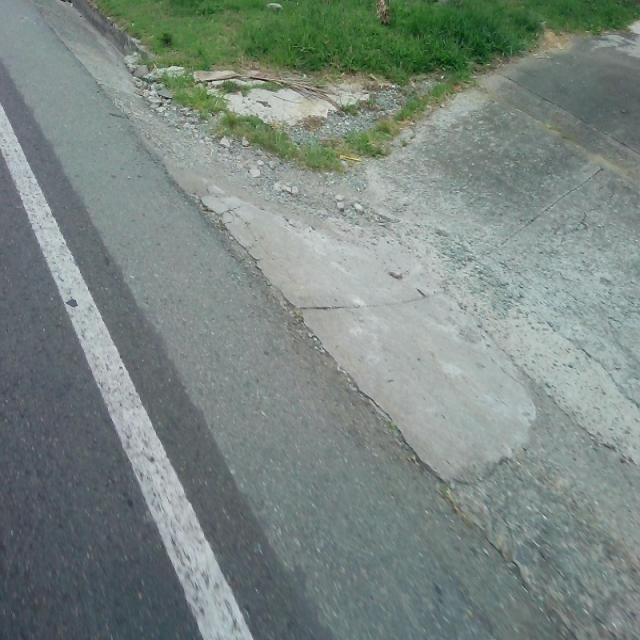DITCH: (3, 1, 637, 638), (1, 21, 638, 638), (1, 217, 638, 638)
